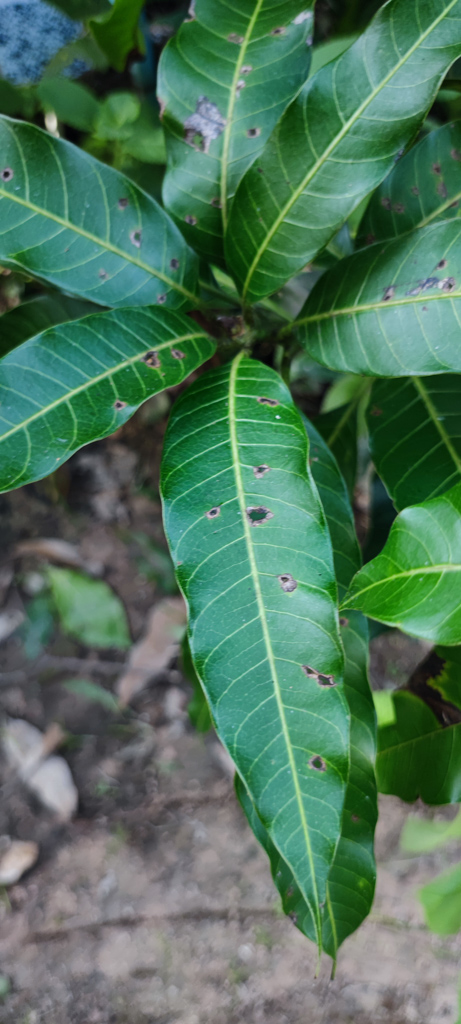frog-eye leafspot: (373, 251, 457, 320), (104, 191, 150, 252), (140, 336, 189, 372), (293, 658, 335, 694), (157, 249, 182, 304), (381, 181, 420, 216), (226, 57, 257, 100), (239, 496, 274, 531), (269, 568, 302, 605), (425, 159, 451, 205), (300, 742, 329, 780), (252, 387, 280, 417), (89, 260, 115, 285), (224, 23, 249, 48), (264, 19, 291, 42), (1, 162, 20, 190), (203, 500, 224, 525), (103, 394, 132, 412), (249, 460, 273, 481), (206, 187, 225, 212), (241, 118, 261, 141)
